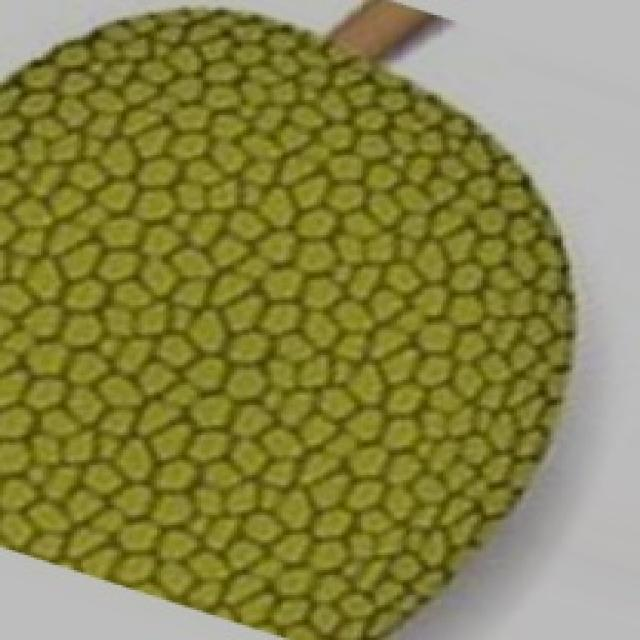Fruit: (0, 0, 406, 378), (277, 2, 634, 272)
